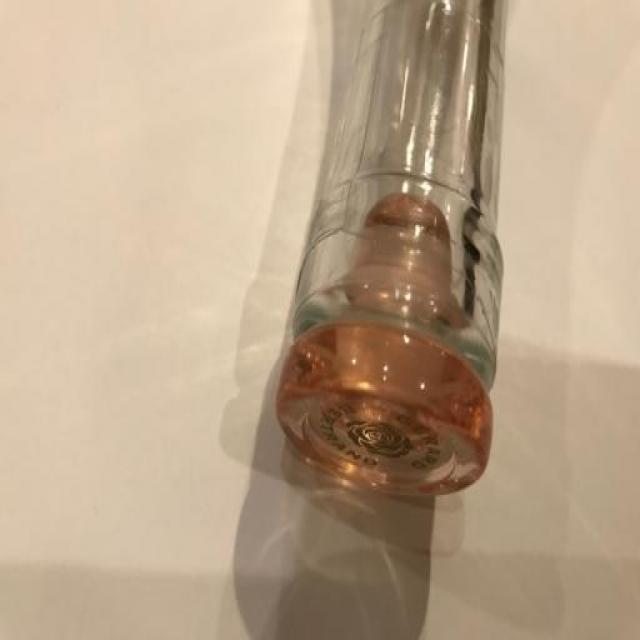glass: (266, 1, 561, 509)
